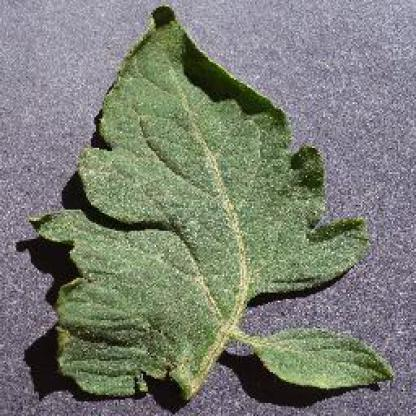bad leaf: (26, 8, 374, 405)
